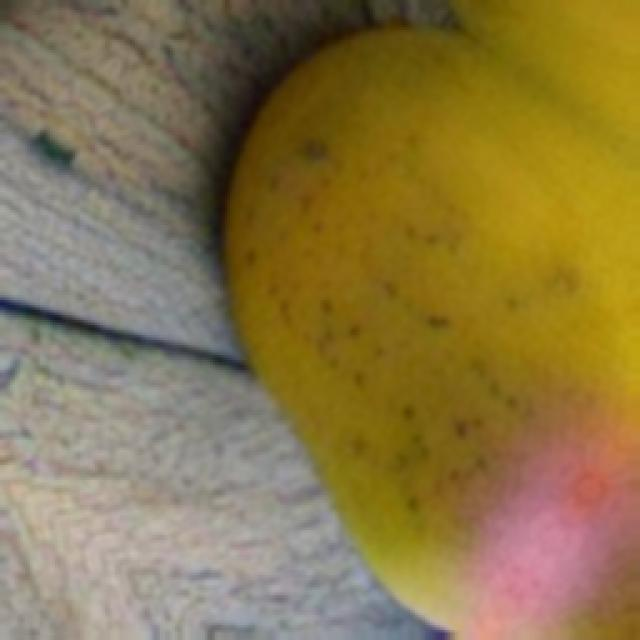defective: (215, 0, 638, 638)
